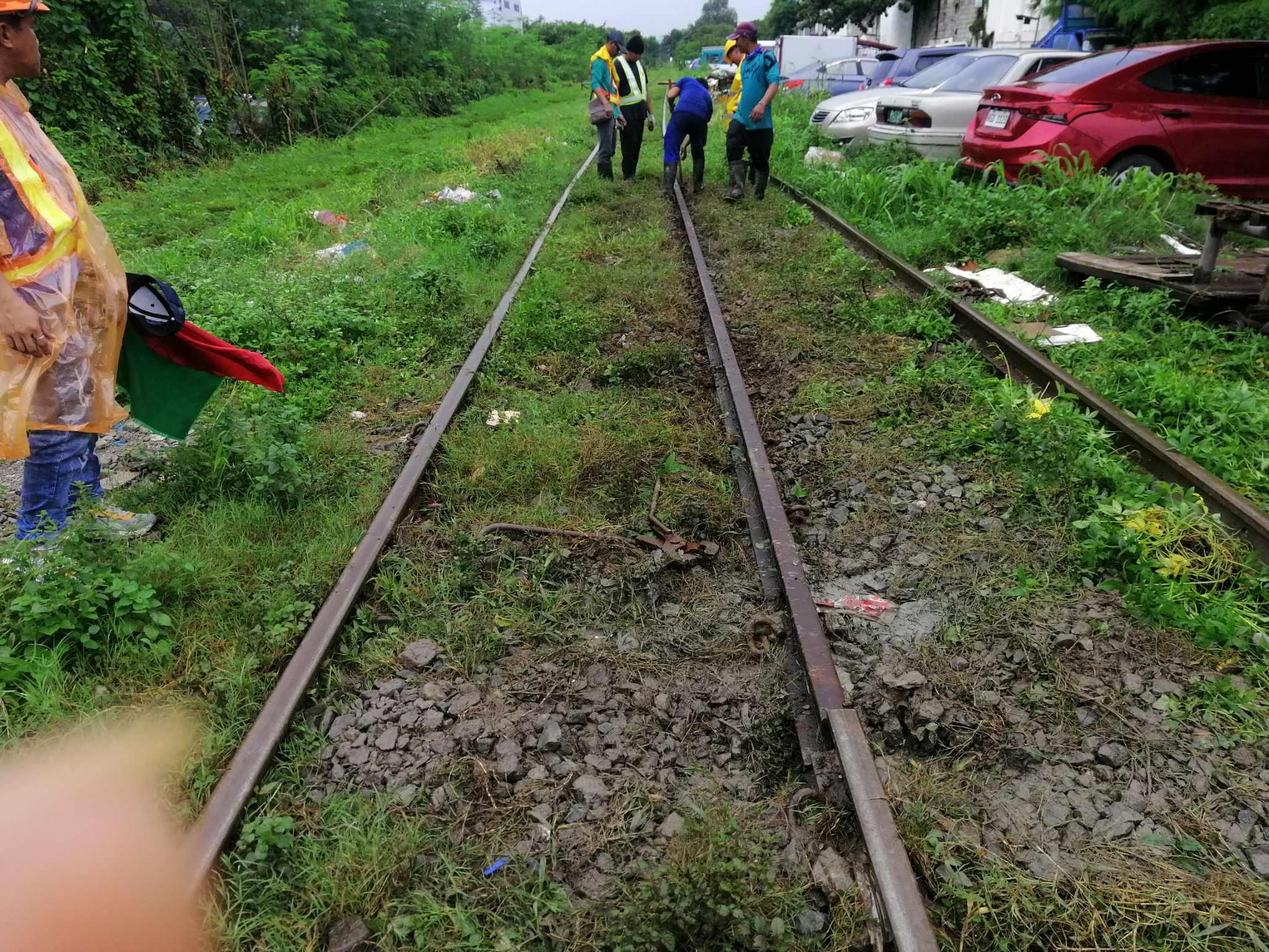railway-gap: (772, 666, 880, 785)
